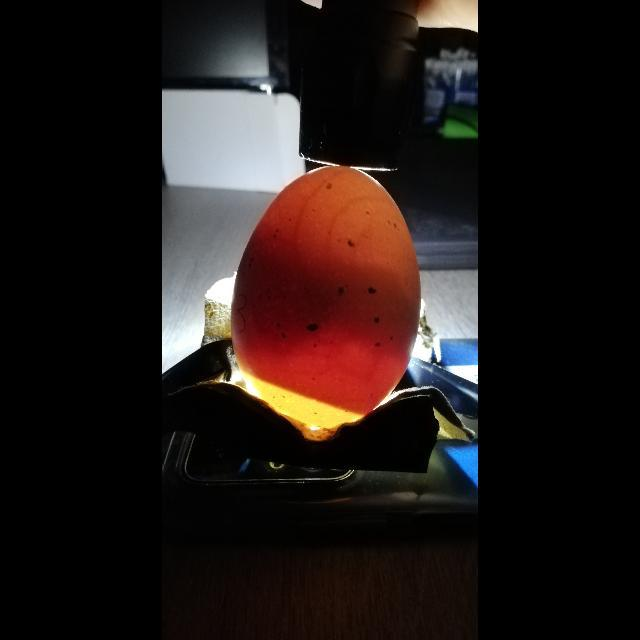Fertile: (226, 157, 418, 441)
